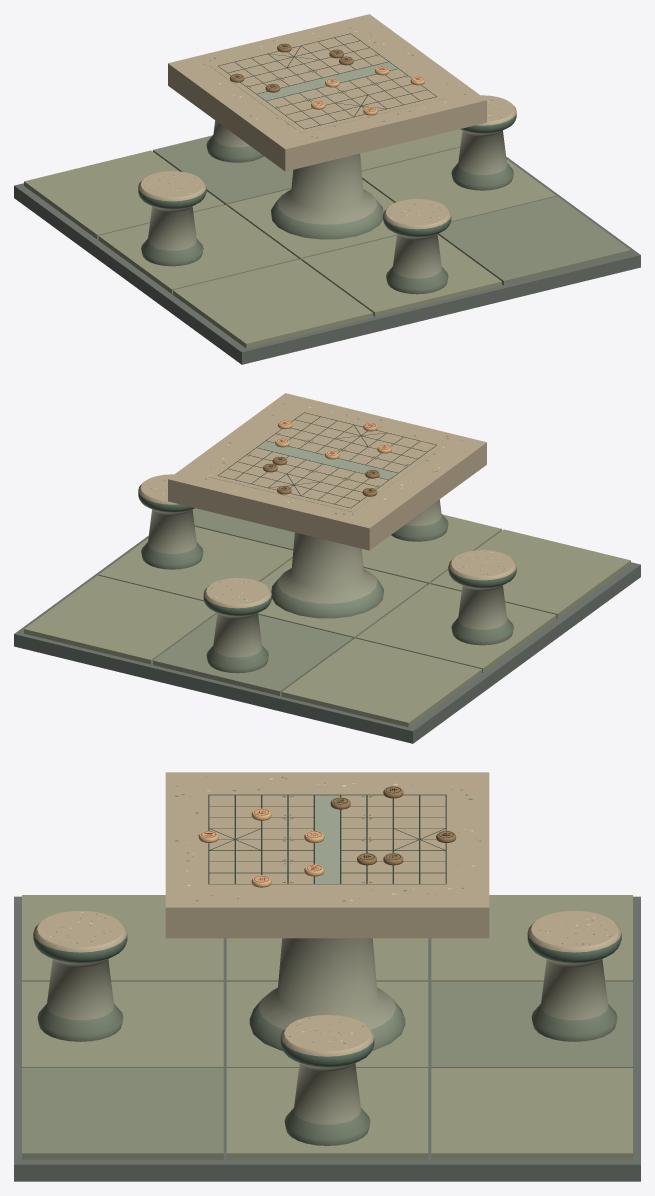
The model's file is void-deck-xiangqi-table.glb.
3 views of the same model, one above another, from view 1: azimuth 30°, elevation 25°; view 2: azimuth 150°, elevation 25°; view 3: azimuth 270°, elevation 25° (orthographic). The views are drawn at different scales.
Parts seen in each view (by area): view 1: TABLE_ROUNDED_CAST_TERRAZZO_TOP, Cloud-grey paving display base, BOARD_FIXED_INTEGRAL_INSET, Sheltered paving tile, Sheltered paving tile.002, Sheltered paving tile.006, Sheltered paving tile.003, Sheltered paving tile.001, TABLE_SOLID_CAST_TAPER_AND_FOOT, Sheltered paving tile.005, STOOL_LEFT_SOLID_CAST_SEAT, STOOL_FRONT_SOLID_CAST_SEAT (+6 smaller); view 2: TABLE_ROUNDED_CAST_TERRAZZO_TOP, Cloud-grey paving display base, BOARD_FIXED_INTEGRAL_INSET, Sheltered paving tile.006, Sheltered paving tile.008, Sheltered paving tile, Sheltered paving tile.003, Sheltered paving tile.007, TABLE_SOLID_CAST_TAPER_AND_FOOT, Sheltered paving tile.005, STOOL_LEFT_SOLID_CAST_SEAT, STOOL_BACK_SOLID_CAST_SEAT (+6 smaller); view 3: TABLE_ROUNDED_CAST_TERRAZZO_TOP, BOARD_FIXED_INTEGRAL_INSET, Cloud-grey paving display base, Sheltered paving tile.002, Sheltered paving tile.008, Sheltered paving tile.005, Sheltered paving tile.001, Sheltered paving tile.007, TABLE_SOLID_CAST_TAPER_AND_FOOT, Sheltered paving tile, Sheltered paving tile.006, STOOL_RIGHT_SOLID_CAST_SEAT (+5 smaller).
Boxes of the visible parts, box(x1,y1,x2,y2) form: TABLE_ROUNDED_CAST_TERRAZZO_TOP: box(168, 14, 486, 171); Cloud-grey paving display base: box(14, 157, 640, 364); BOARD_FIXED_INTEGRAL_INSET: box(209, 30, 445, 133); Sheltered paving tile: box(173, 259, 373, 348); Sheltered paving tile.002: box(438, 196, 630, 285); Sheltered paving tile.006: box(24, 150, 224, 239); Sheltered paving tile.003: box(98, 205, 298, 293); Sheltered paving tile.001: box(301, 234, 501, 316); TABLE_SOLID_CAST_TAPER_AND_FOOT: box(271, 153, 383, 239); Sheltered paving tile.005: box(361, 147, 556, 222); STOOL_LEFT_SOLID_CAST_SEAT: box(138, 171, 206, 266); STOOL_FRONT_SOLID_CAST_SEAT: box(383, 199, 451, 294); TABLE_ROUNDED_CAST_TERRAZZO_TOP: box(168, 393, 486, 550); Cloud-grey paving display base: box(14, 536, 640, 743); BOARD_FIXED_INTEGRAL_INSET: box(209, 409, 445, 512); Sheltered paving tile.006: box(281, 638, 481, 727); Sheltered paving tile.008: box(24, 575, 216, 664); Sheltered paving tile: box(430, 529, 630, 618); Sheltered paving tile.003: box(356, 584, 556, 672); Sheltered paving tile.007: box(153, 613, 353, 695); TABLE_SOLID_CAST_TAPER_AND_FOOT: box(271, 532, 383, 618); Sheltered paving tile.005: box(98, 526, 293, 601); STOOL_LEFT_SOLID_CAST_SEAT: box(448, 550, 516, 645); STOOL_BACK_SOLID_CAST_SEAT: box(203, 578, 271, 673); TABLE_ROUNDED_CAST_TERRAZZO_TOP: box(165, 772, 489, 938); BOARD_FIXED_INTEGRAL_INSET: box(199, 791, 455, 888); Cloud-grey paving display base: box(14, 896, 640, 1181); Sheltered paving tile.002: box(22, 1068, 223, 1159); Sheltered paving tile.008: box(431, 1068, 632, 1159); Sheltered paving tile.005: box(226, 1068, 428, 1159); Sheltered paving tile.001: box(22, 981, 223, 1067); Sheltered paving tile.007: box(431, 981, 632, 1067); TABLE_SOLID_CAST_TAPER_AND_FOOT: box(249, 938, 405, 1050); Sheltered paving tile: box(22, 895, 223, 981); Sheltered paving tile.006: box(431, 895, 632, 981); STOOL_RIGHT_SOLID_CAST_SEAT: box(280, 1015, 374, 1145).
Bounding box in the file's own units: 2.21 × 0.8219 × 2.19.
